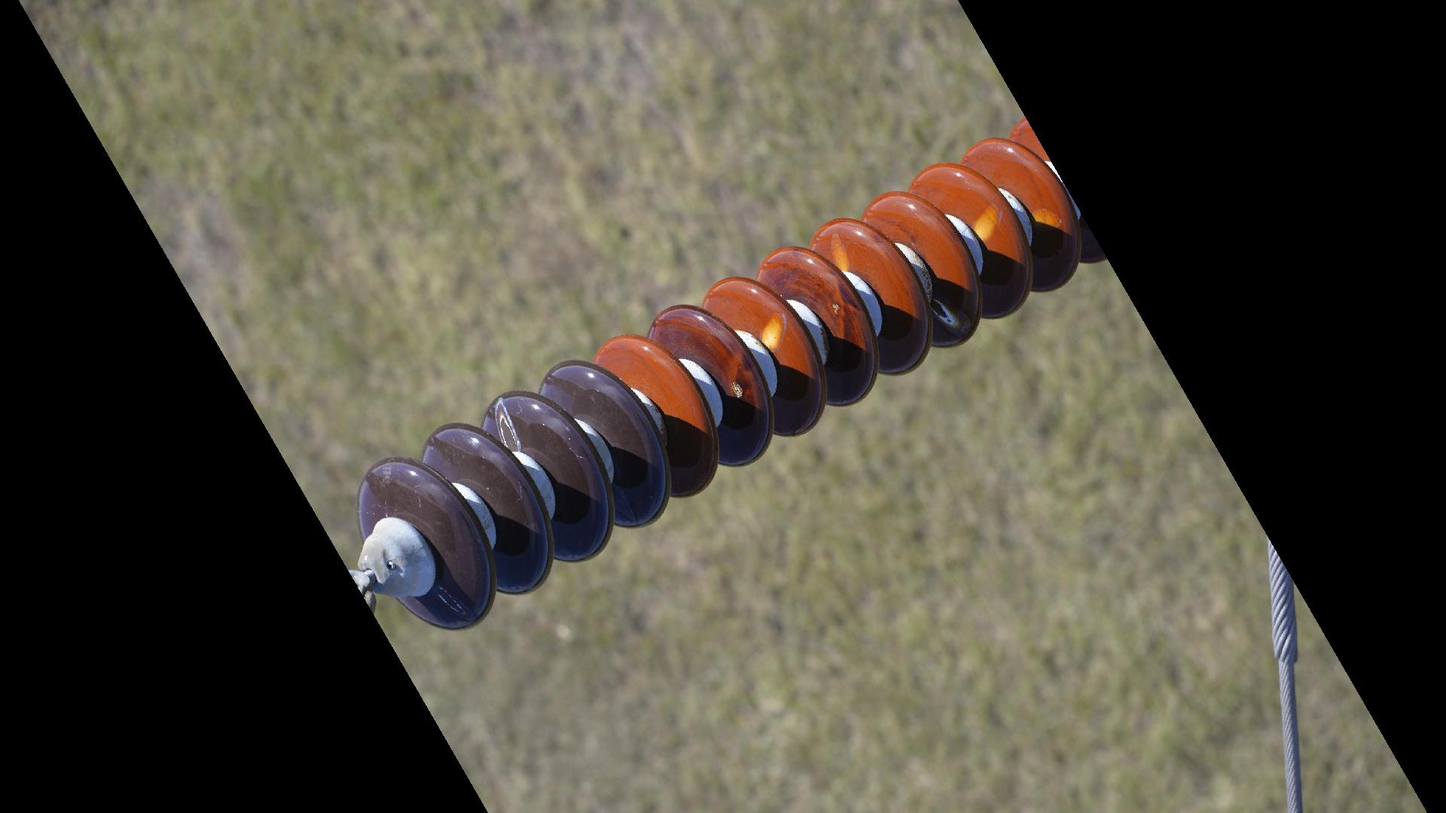insulator: (349, 109, 1110, 637)
insulator_flashover: (490, 396, 526, 454), (758, 308, 789, 354), (970, 202, 1002, 243), (432, 583, 468, 617), (828, 230, 854, 275), (1030, 206, 1065, 231)
